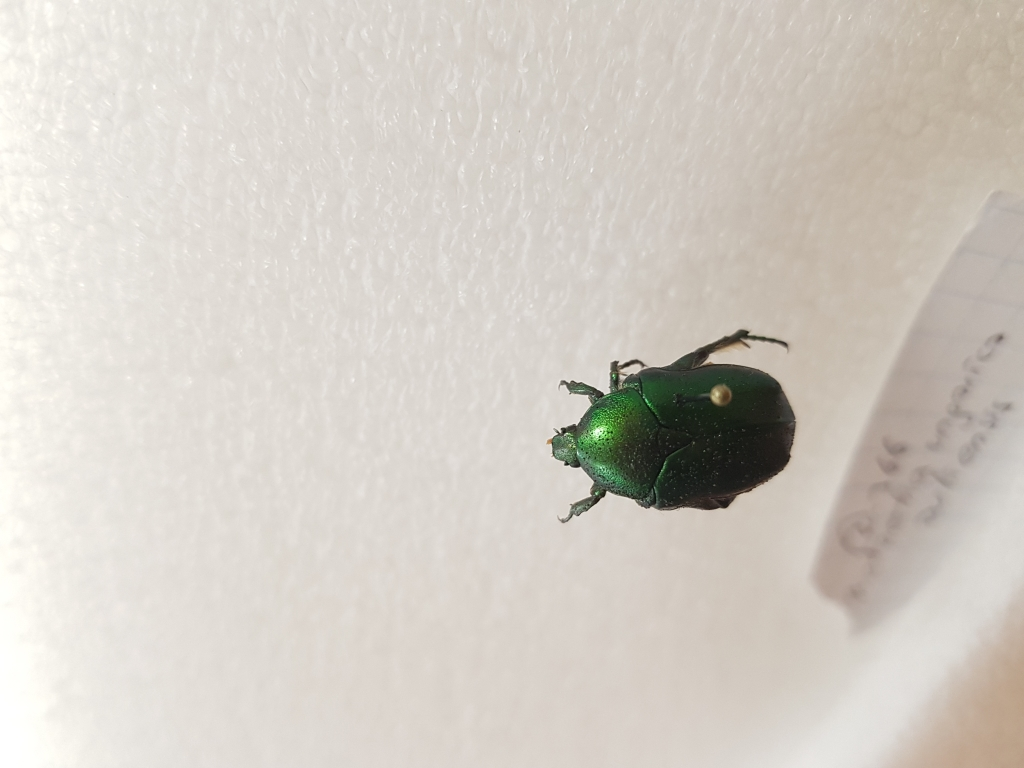Protaetia_ungarica_americana: (542, 325, 802, 541)
